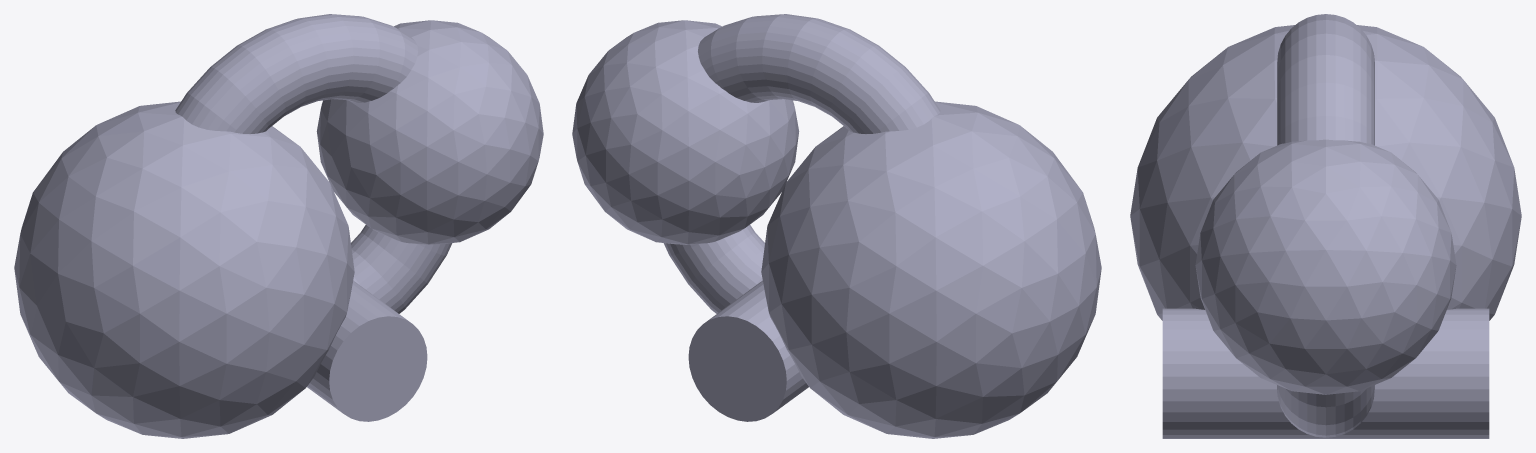
File: model_enterprise_9d17a42c.glb
3 renders of one model, left to right at view 1: azimuth 30°, elevation 25°; view 2: azimuth 150°, elevation 25°; view 3: azimuth 270°, elevation 25°, orthographic. The views are drawn at different scales.
Parts seen in each view (by area): view 1: world; view 2: world; view 3: world.
Boxes of the visible parts, x1,y1,x2,y2 form: world: (14, 14, 543, 438); world: (572, 14, 1101, 438); world: (1130, 14, 1521, 438).
Bounding box in the file's own units: 2 × 1.45 × 1.2.
